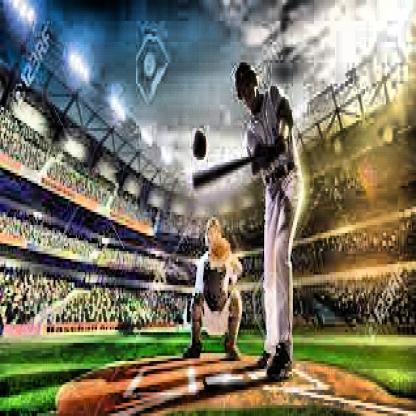baseball: (194, 128, 209, 166)
